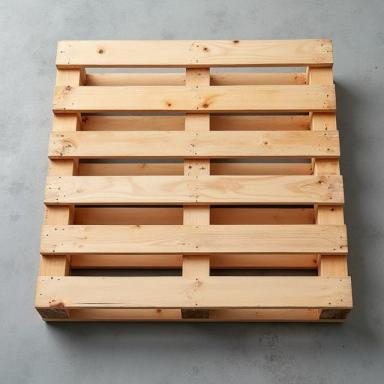pallet: (34, 39, 353, 323)
